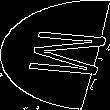M_E: (5, 28, 105, 82)
